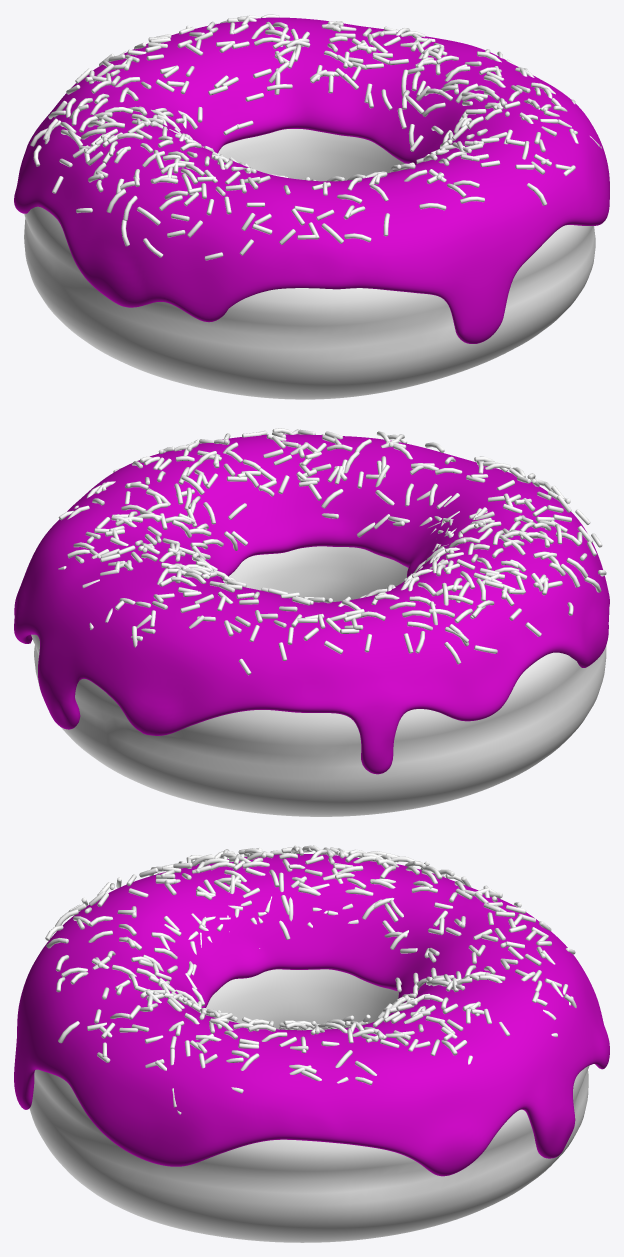
File: donut.glb
The picture shows the model from 3 angles, top to bottom: view 1: azimuth 30°, elevation 25°; view 2: azimuth 150°, elevation 25°; view 3: azimuth 270°, elevation 25°; orthographic projection.
Parts seen in each view (by area): view 1: Glaze, Doughnut; view 2: Glaze, Doughnut; view 3: Glaze, Doughnut.
Boxes of the visible parts, left/top/right/bottom form: Glaze: left=14, top=17, right=609, bottom=343; Doughnut: left=24, top=129, right=595, bottom=399; Glaze: left=14, top=434, right=609, bottom=774; Doughnut: left=31, top=546, right=606, bottom=816; Glaze: left=14, top=854, right=609, bottom=1176; Doughnut: left=29, top=969, right=589, bottom=1242.
Bounding box in the file's own units: 2.38 × 0.9583 × 2.42.
